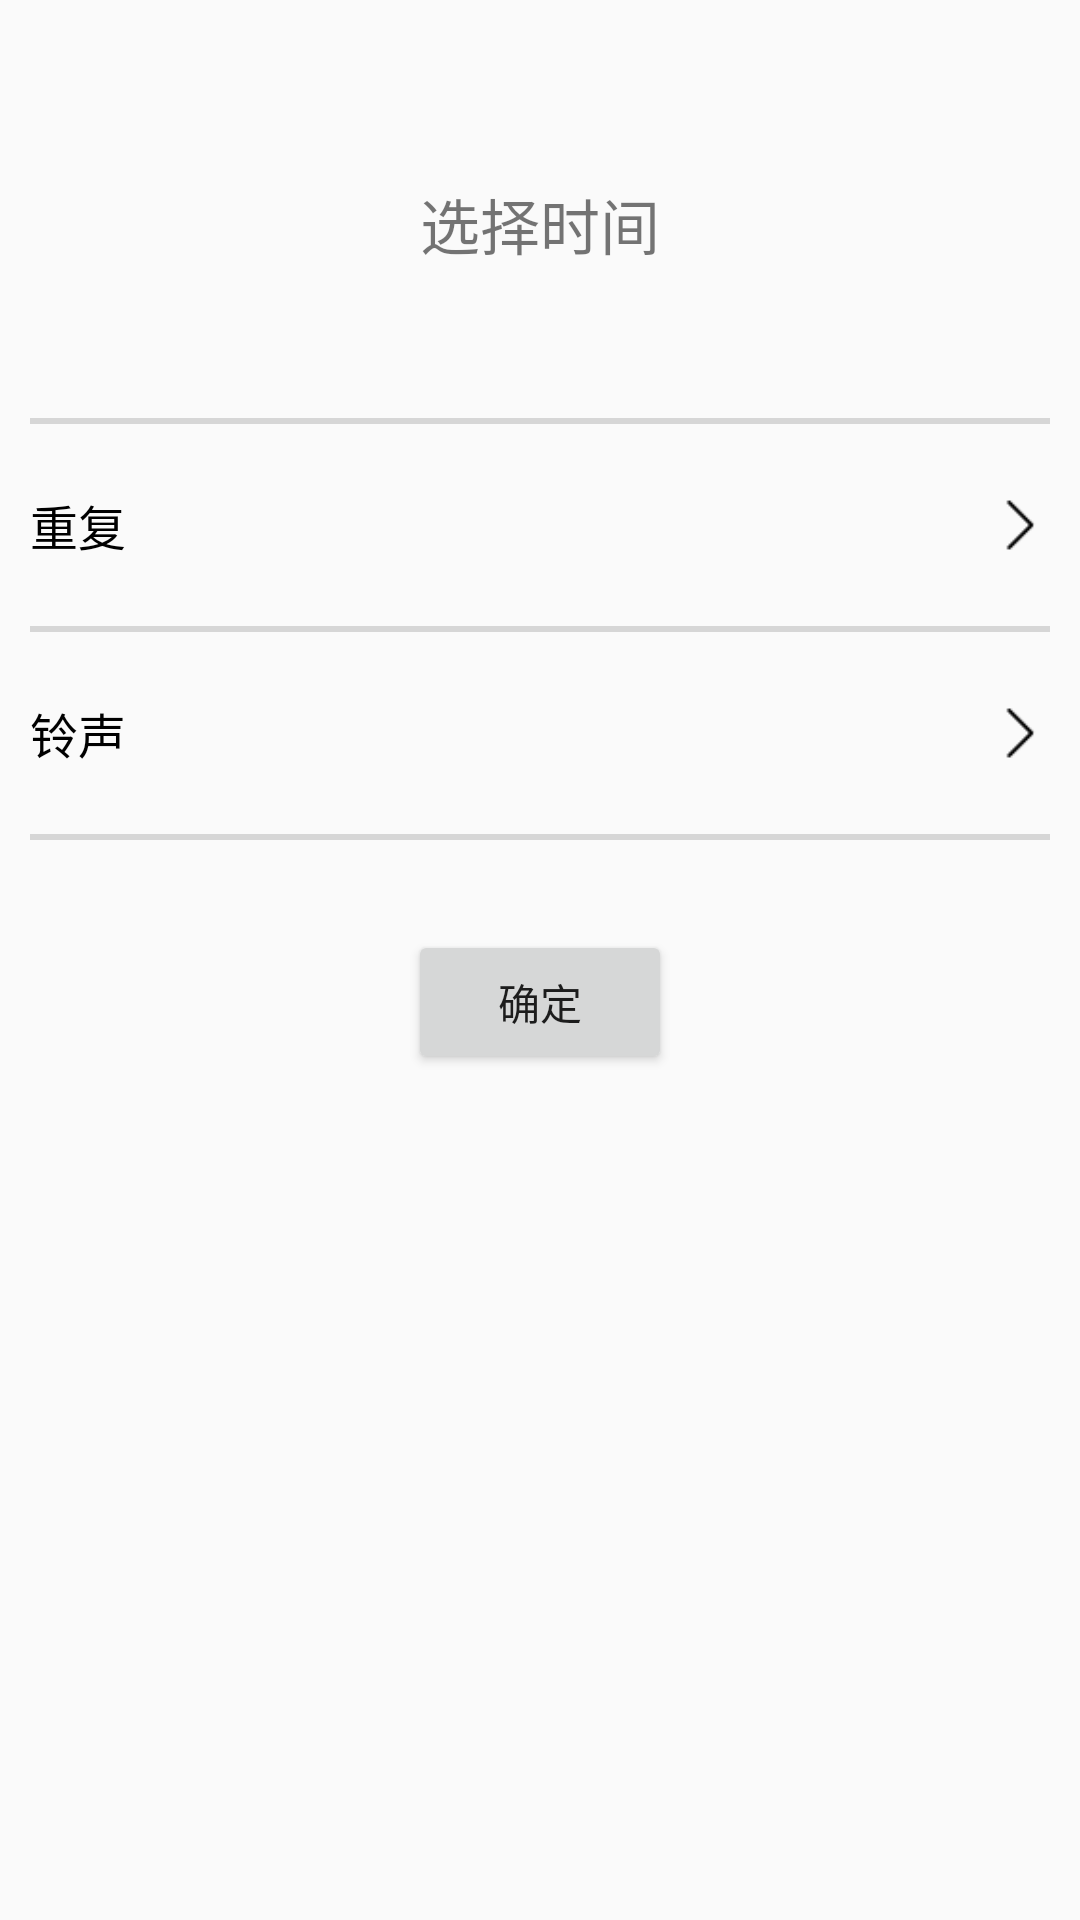

Icons on this 1080w x 1920h Android screen, each with its box as (x1, y1, x2, y2):
arrow: (1006, 500, 1034, 550), (1006, 708, 1034, 758)
